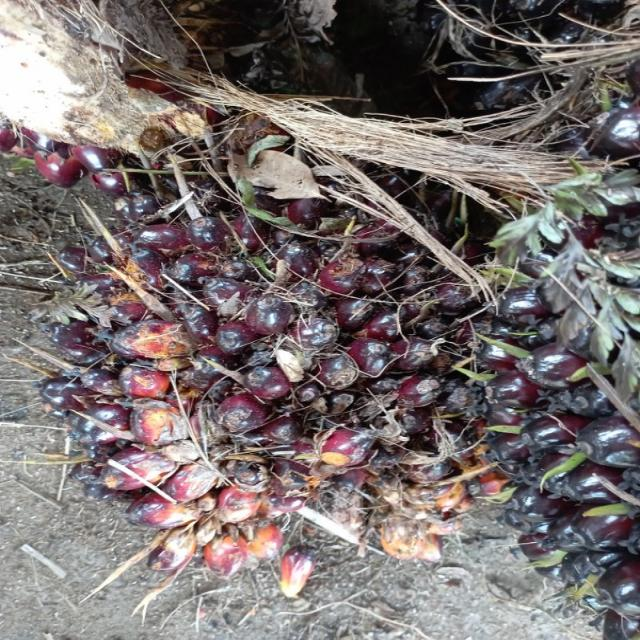fraksi 1: (36, 98, 506, 597)
